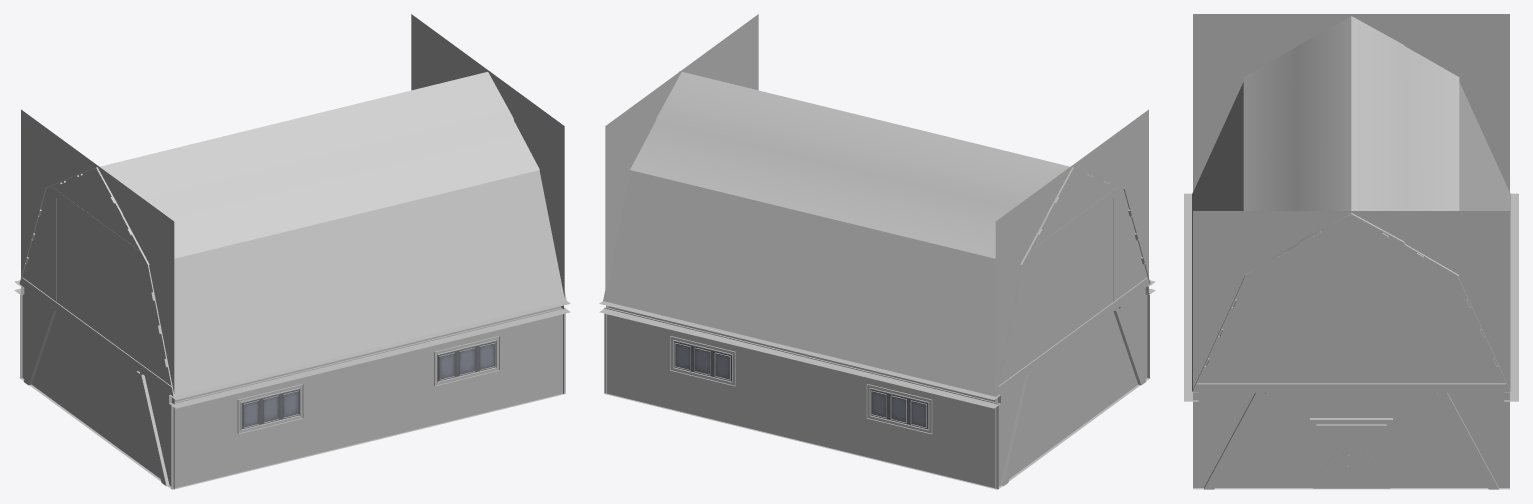
Rendered from Coop_final_scene.fbx.
The picture shows the model from 3 angles, left to right: view 1: azimuth 30°, elevation 25°; view 2: azimuth 150°, elevation 25°; view 3: azimuth 270°, elevation 25°; orthographic projection. The views are drawn at different scales.
Visible parts, largest first — view 1: Roof2_low, Wall3_low, Wall2_low, Wall1_low, Balke1_low, Plane, Balke2_low.004, Floor_low, Windowframe_low, Windows_low, Balke3_low.002, Balke6_low.004 (+2 smaller); view 2: Roof2_low, Wall3_low, Wall2_low, Wall1_low, Balke1_low, Plane, Balke2_low.004, Floor_low, Windowframe_low, Windows_low, Balke3_low.003, Balke6_low.004 (+2 smaller); view 3: Wall3_low, Roof2_low, Wall1_low, Doors_low, Balke1_low, Balke2_low, Balke3_low, Balke3_low.001, Floor_low, Doorframe_low.
Boxes of the visible parts, x1,y1,x2,y2 form: Roof2_low: (19, 71, 566, 396); Wall3_low: (21, 14, 564, 393); Wall2_low: (20, 293, 565, 488); Wall1_low: (22, 288, 563, 488); Balke1_low: (14, 280, 570, 408); Plane: (242, 341, 495, 428); Balke2_low.004: (20, 277, 173, 396); Floor_low: (19, 377, 566, 489); Windowframe_low: (237, 336, 499, 434); Windows_low: (241, 340, 496, 429); Balke3_low.002: (136, 371, 169, 486); Balke6_low.004: (47, 186, 147, 264); Roof2_low: (603, 71, 1150, 396); Wall3_low: (605, 14, 1148, 394); Wall2_low: (604, 293, 1149, 488); Wall1_low: (606, 288, 1147, 488); Balke1_low: (599, 280, 1155, 408); Plane: (674, 341, 927, 428); Balke2_low.004: (996, 277, 1149, 396); Floor_low: (603, 377, 1150, 489); Windowframe_low: (670, 336, 932, 434); Windows_low: (673, 340, 928, 429); Balke3_low.003: (1000, 371, 1033, 486); Balke6_low.004: (1022, 186, 1122, 264); Wall3_low: (1193, 14, 1509, 391); Roof2_low: (1192, 16, 1510, 391); Wall1_low: (1193, 392, 1509, 487); Doors_low: (1313, 421, 1389, 488); Balke1_low: (1184, 193, 1518, 401); Balke2_low: (1193, 383, 1509, 392); Balke3_low: (1204, 393, 1265, 489); Balke3_low.001: (1437, 393, 1498, 489); Floor_low: (1193, 488, 1509, 489); Doorframe_low: (1310, 418, 1392, 425).
Size of the model in its own units: 1993 by 1288 by 1409.
